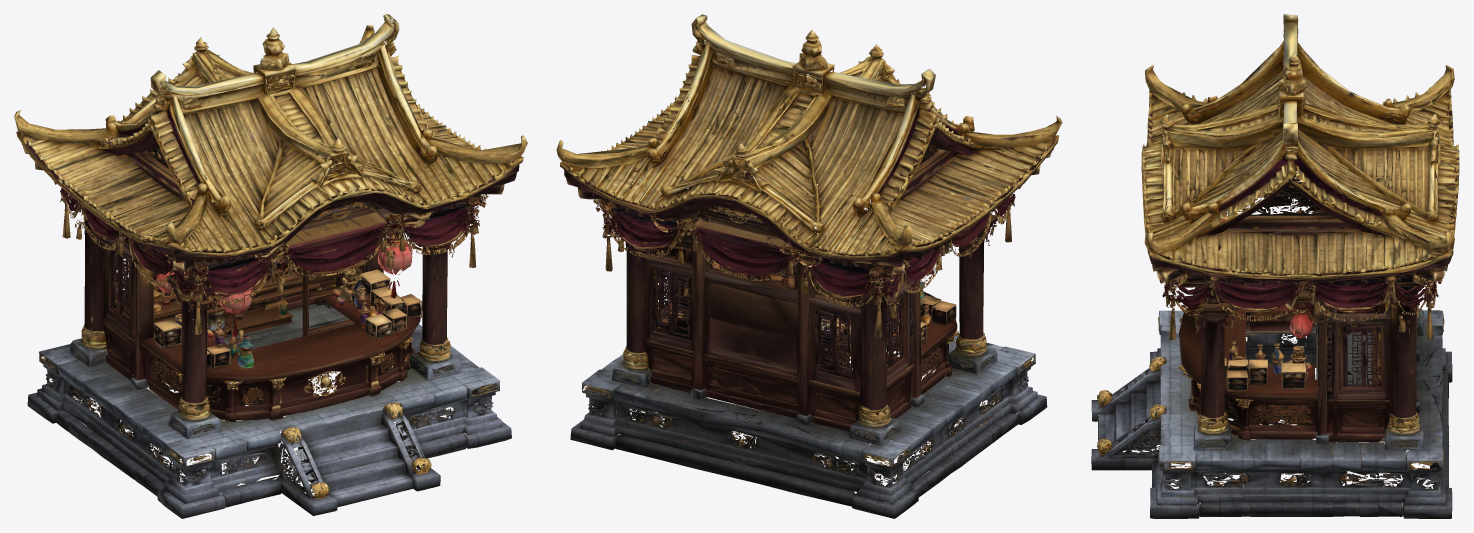
The model's file is market-pavilion-v1.glb.
3 renders of one model, left to right at view 1: azimuth 30°, elevation 25°; view 2: azimuth 150°, elevation 25°; view 3: azimuth 270°, elevation 25°, orthographic. The views are drawn at different scales.
Parts seen in each view (by area): view 1: geometry_0; view 2: geometry_0; view 3: geometry_0.
Part boxes in pixels (left/top/right/bottom): geometry_0: left=14, top=14, right=527, bottom=518; geometry_0: left=556, top=14, right=1062, bottom=518; geometry_0: left=1091, top=14, right=1459, bottom=518.
Bounding box in the file's own units: 0.9483 × 0.9968 × 0.8575.
1 material, 1 textured.
